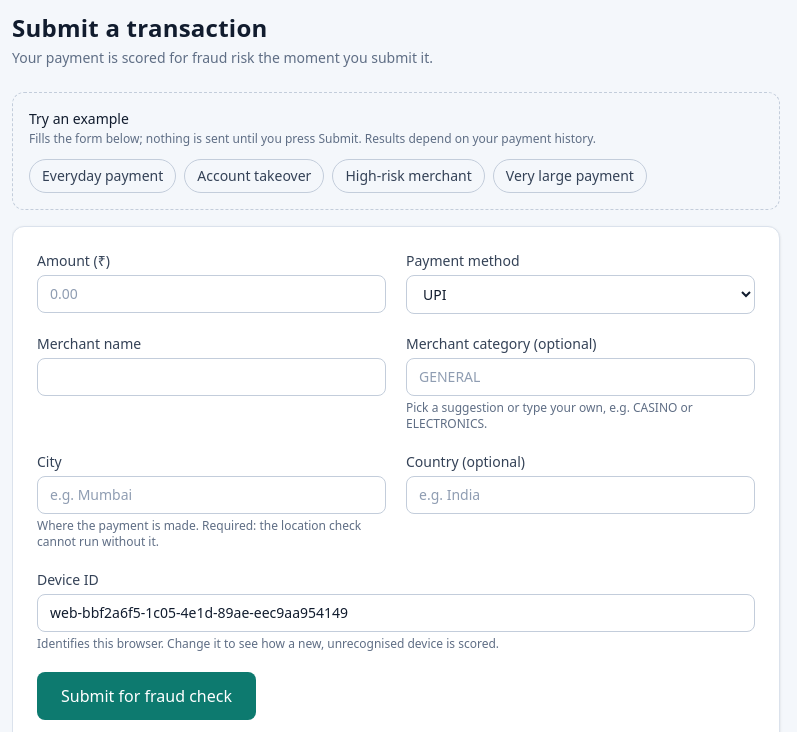
Scenario: SubmitTransaction: B-01 + C-01 › a result without scoreBreakdown (older server) still renders
This screenshot has width=797, height=732.
Type "1200" into the number field labelled "Amount (₹)" at (212, 294), box [37,275,386,313]
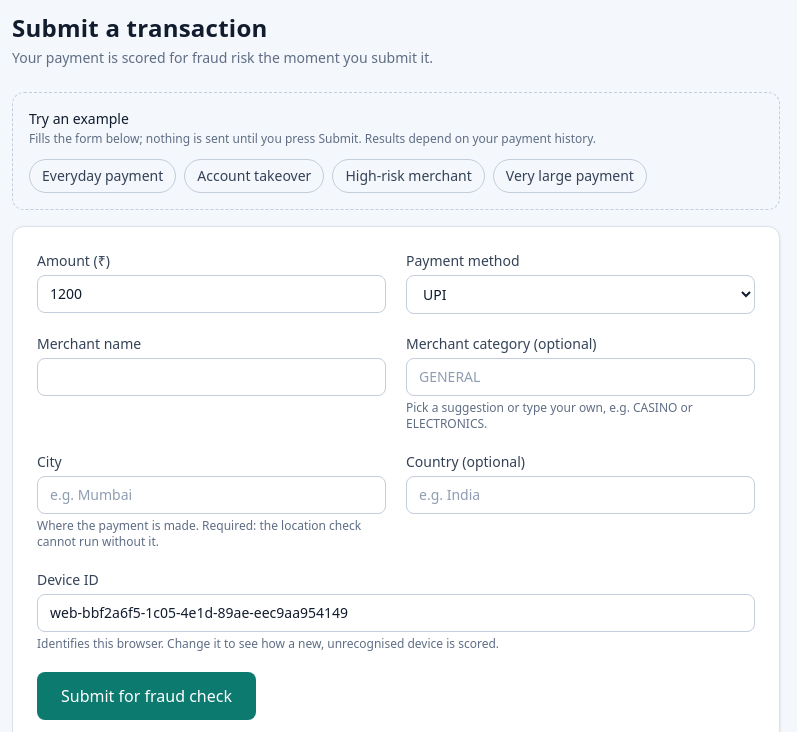
Type "Cafe" into the field labelled "Merchant name" at (212, 377), box [37,358,386,396]
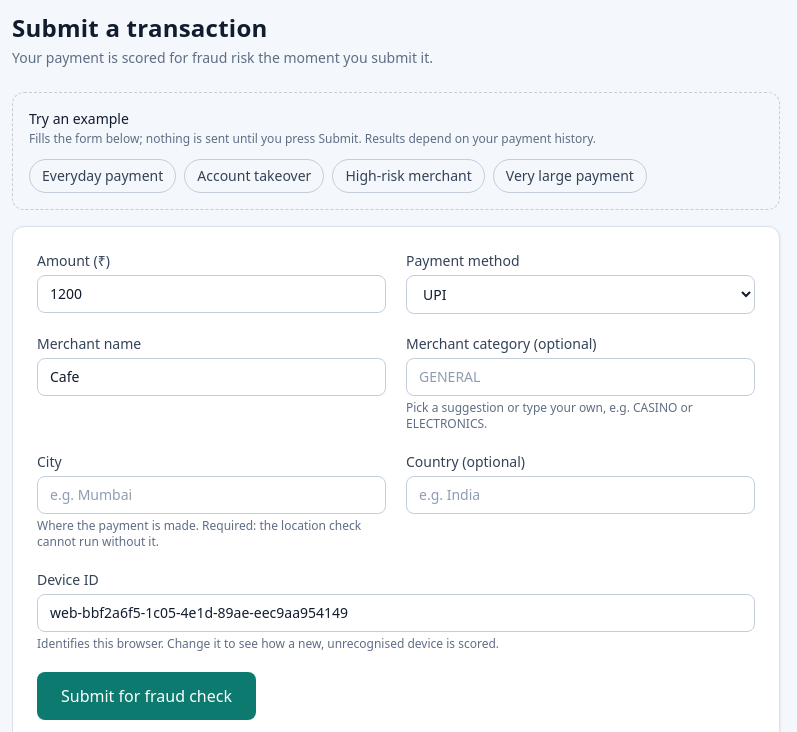
Type "Pune" into the field labelled "City" at (212, 495), box [37,476,386,514]
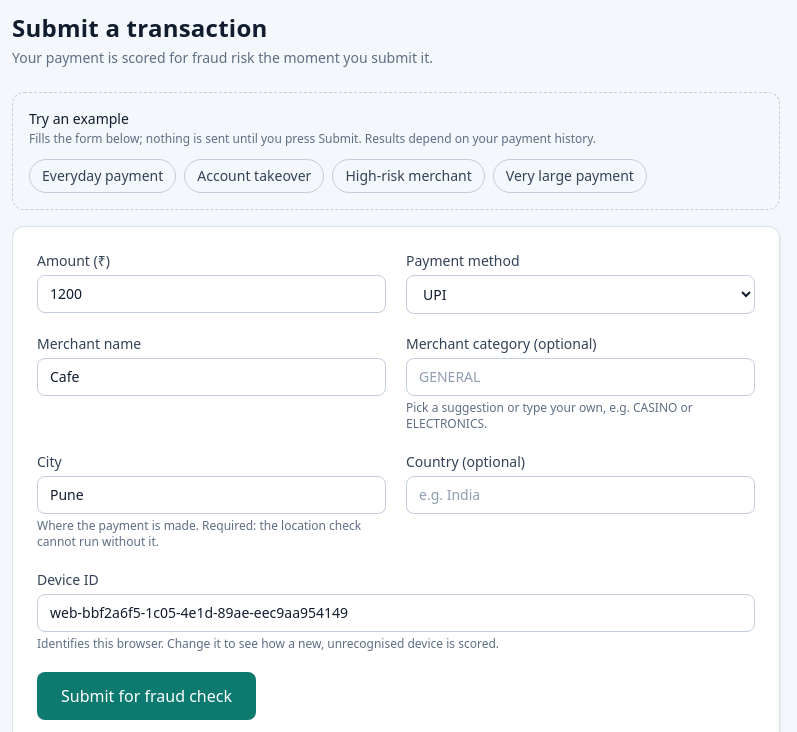
Click the button "Submit for fraud check" at (146, 696), box [37,672,256,720]
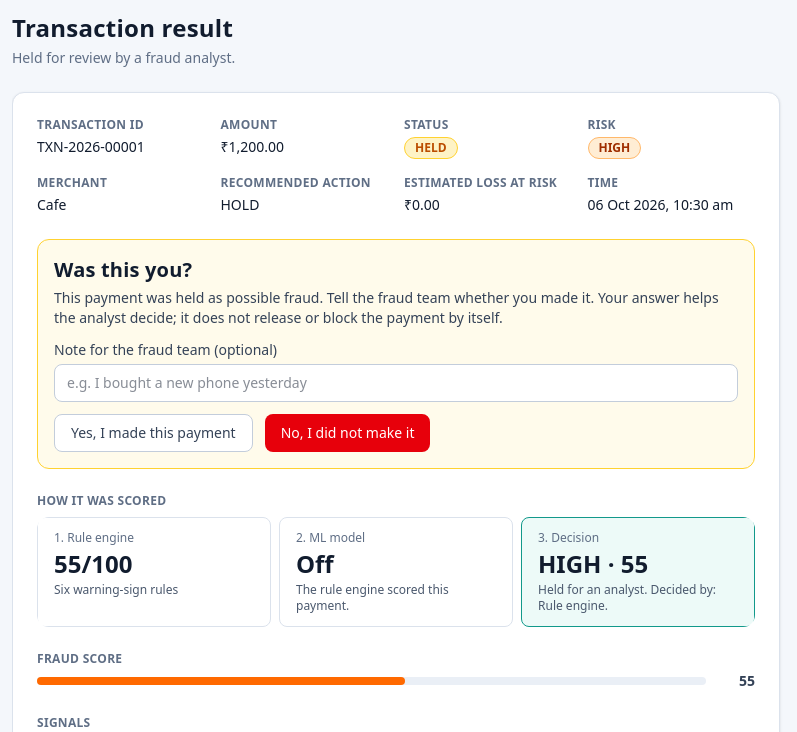
Expected: the text "TXN-2026-00001" is shown, [37,137,145,156]
